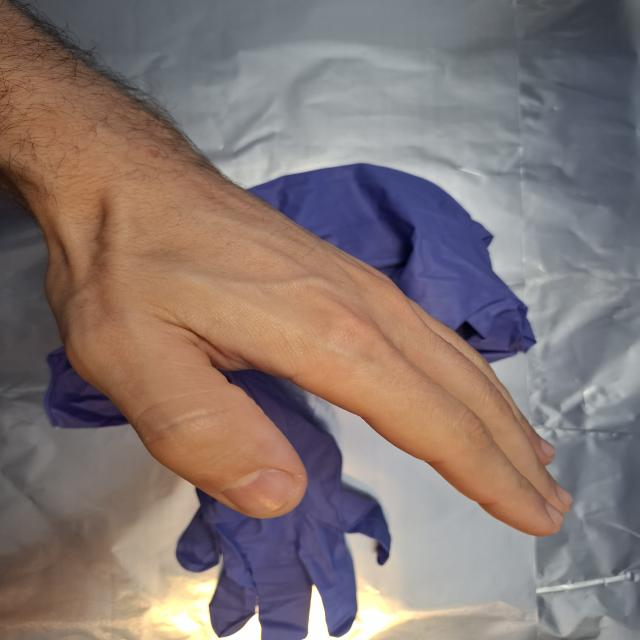glove_off: (36, 157, 578, 539)
